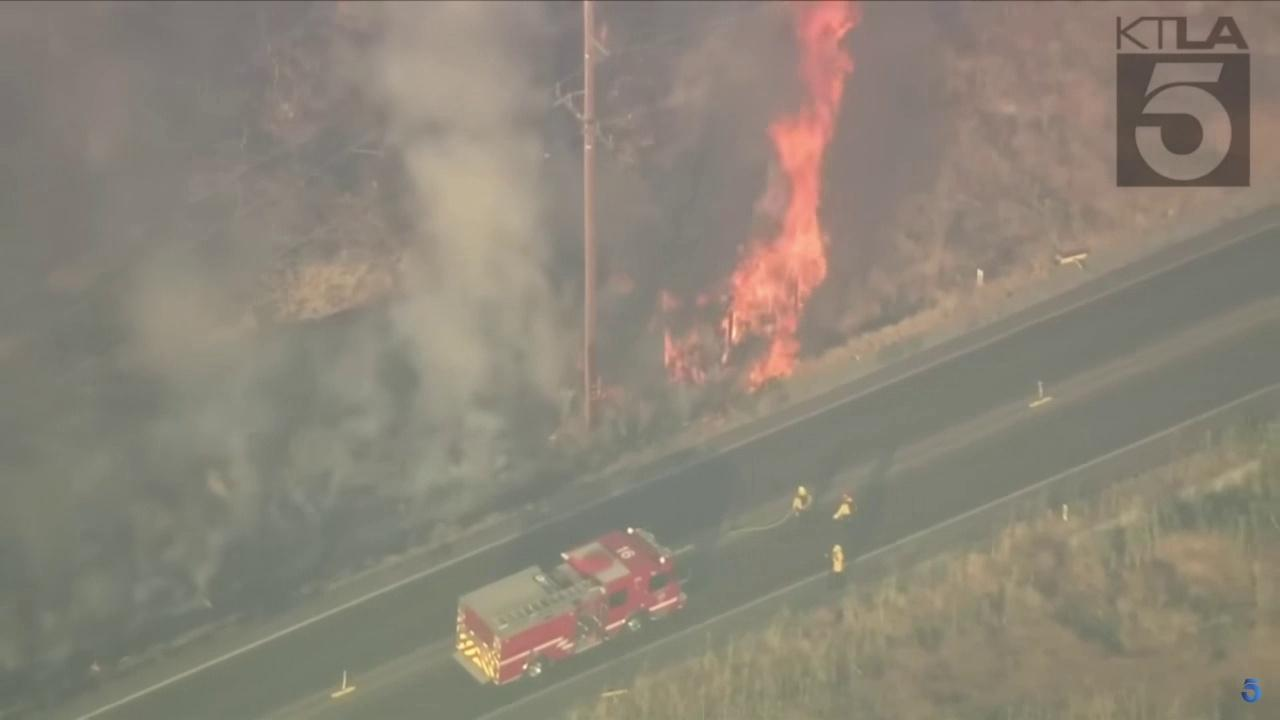fire: (660, 0, 861, 392)
smoke: (0, 0, 850, 720)
